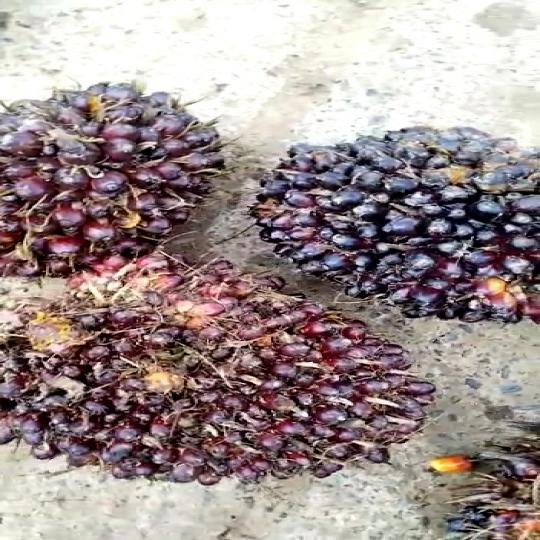kurang masak: (0, 268, 426, 480), (259, 109, 540, 331), (1, 78, 228, 279)
